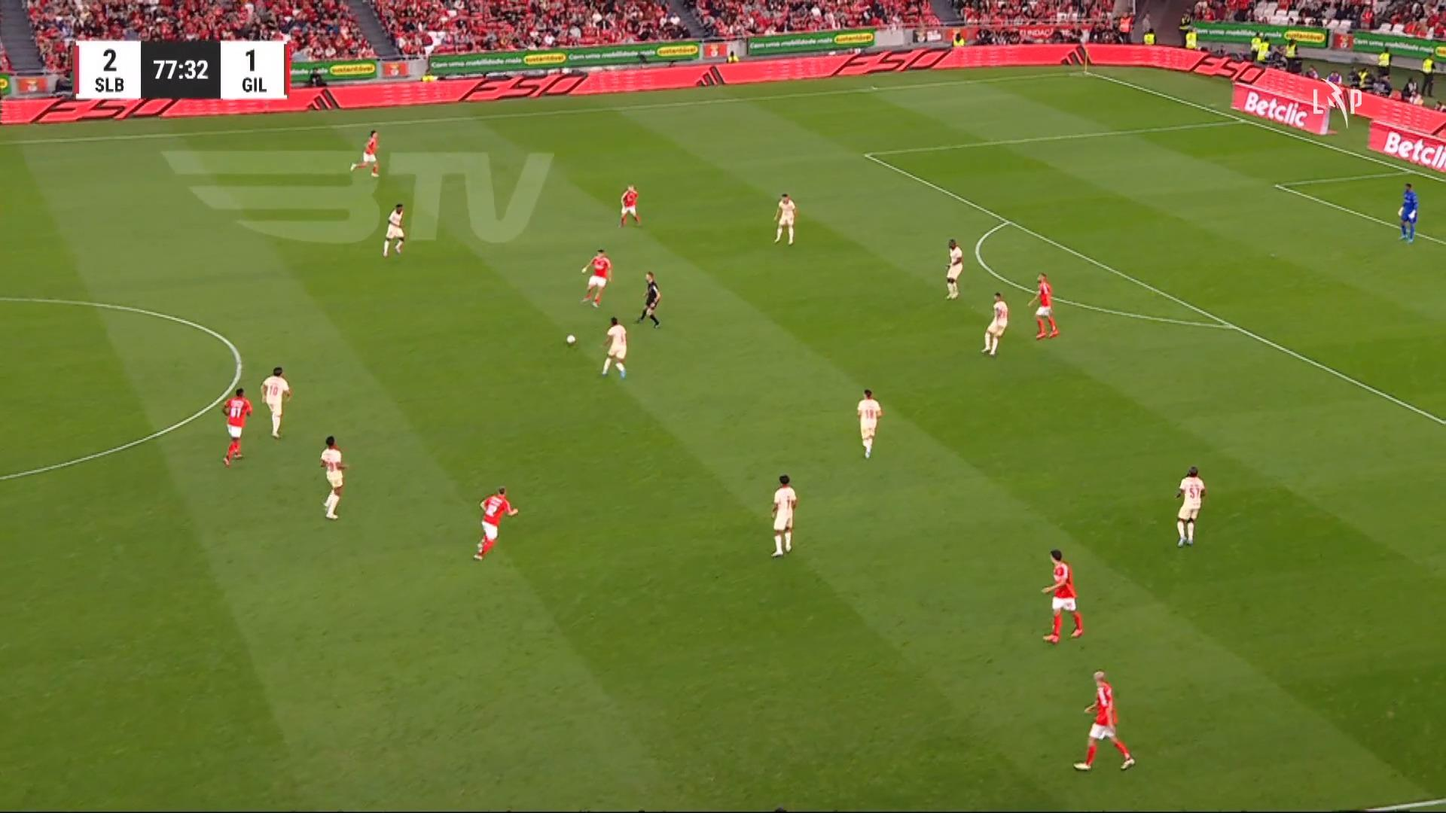ball: (565, 333, 575, 345)
goalkeeper: (1397, 181, 1418, 242)
player: (1072, 670, 1135, 772), (1040, 548, 1084, 643), (472, 486, 519, 561), (1174, 465, 1206, 547), (319, 435, 349, 519), (221, 387, 252, 467), (769, 473, 797, 557), (260, 366, 291, 439), (1027, 272, 1059, 340), (580, 248, 612, 308), (856, 388, 883, 459), (981, 291, 1008, 356), (600, 315, 627, 379), (349, 129, 380, 177), (773, 192, 796, 245), (382, 202, 404, 257), (944, 238, 963, 300), (618, 184, 641, 227)
referee: (634, 270, 661, 328)
